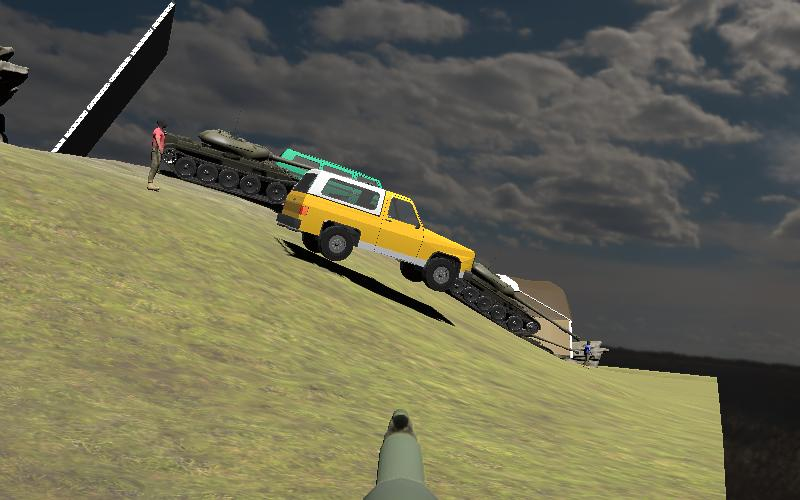Human: (145, 117, 167, 192), (581, 339, 594, 371)
Tank: (149, 125, 322, 212), (443, 259, 575, 342)
car: (275, 172, 477, 292)
